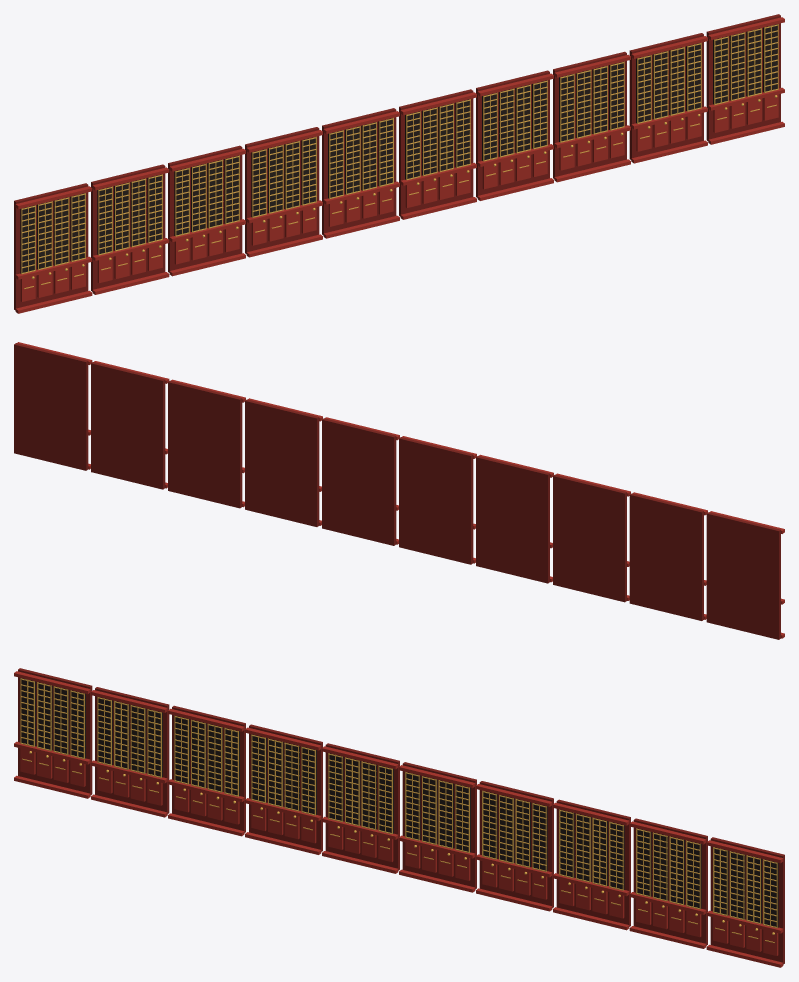
Rendered from SM_09_Doors_South.fbx.
3 views of the same model, one above another, from view 1: azimuth 30°, elevation 25°; view 2: azimuth 150°, elevation 25°; view 3: azimuth 330°, elevation 25° (orthographic).
Parts seen in each view (by area): view 1: Doors_South; view 2: Doors_South; view 3: Doors_South.
Boxes of the visible parts, box(x1,y1,x2,y2) form: Doors_South: box(14, 14, 784, 313); Doors_South: box(14, 342, 784, 639); Doors_South: box(14, 668, 784, 967).
Bounding box in the file's own units: 3984 × 46.5 × 542.
